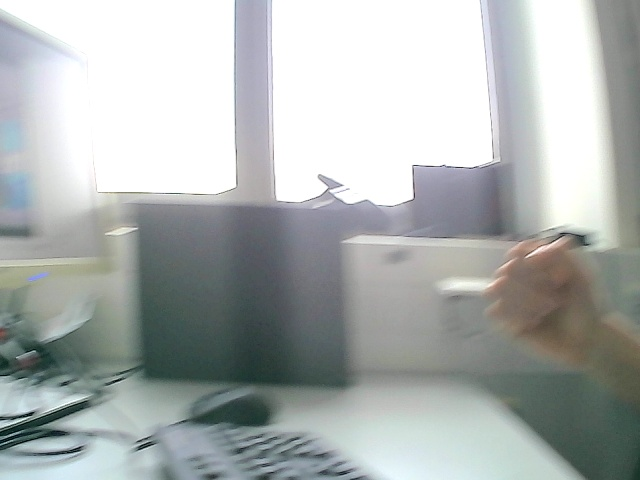no_gesture: (479, 230, 639, 406)
